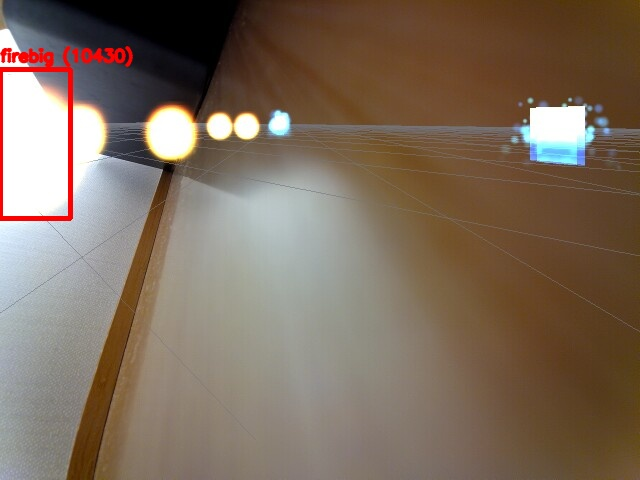firebig: (0, 69, 70, 218)
